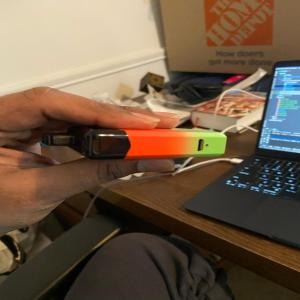Swift-E-Ciggirate: (39, 128, 237, 160)
